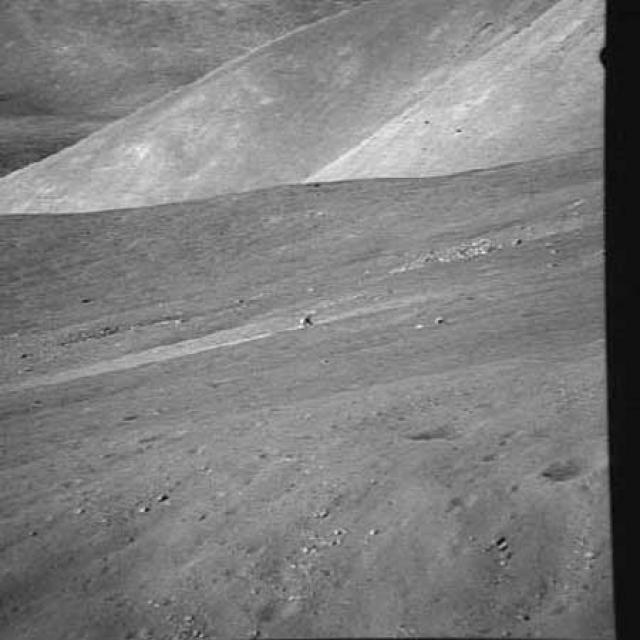crater: (540, 438, 618, 492), (410, 412, 510, 448)
